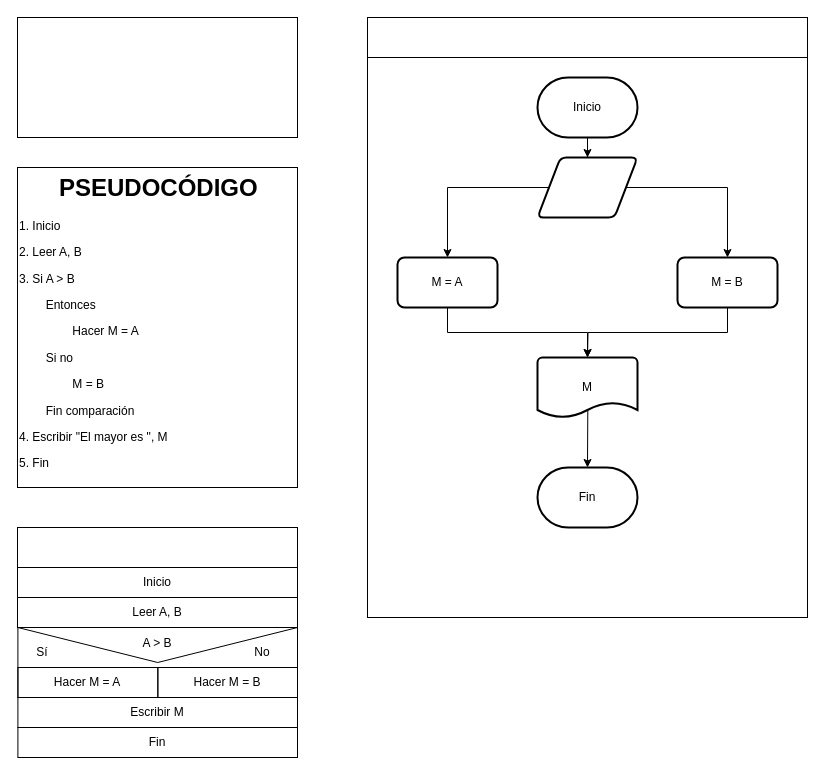
Image size: 825x775. Some labels were removed from this diagram. Here are the shapes that lost their labels. From the top down, the box of each, then its label:
(366, 16, 808, 58): DIAGRAMA DE FLUJO
(16, 16, 298, 138): VARIABLES 1. A, B | Números Solicitados | Reales 2. M | Comparar | Real 3.
(536, 156, 638, 218): A >B
(16, 526, 298, 568): DIAGRAMA N/S .
